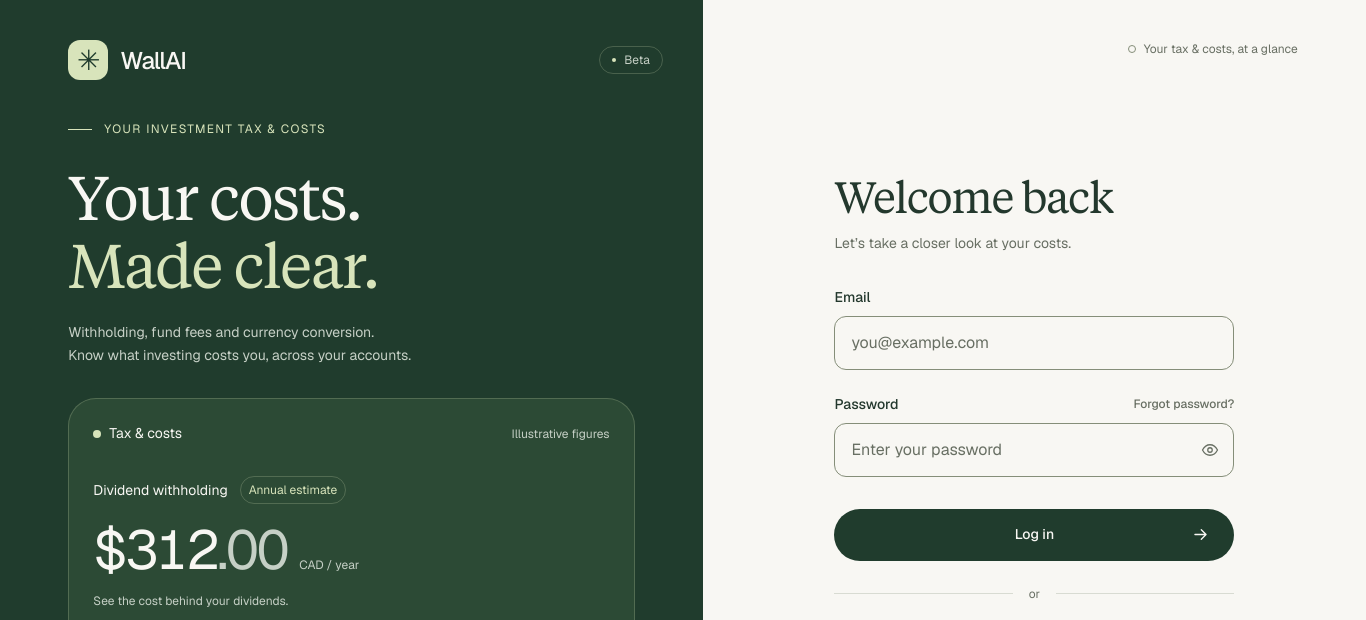
Test: Login page › log-in state › shows a neutral sentence rather than a raw Firebase code when sign-in fails
The width and height of the screenshot is (1366, 620).
Type "a@b.com" into the field labelled "Email".
click(1034, 343); type("a@b.com")  # box [834,316,1234,370]
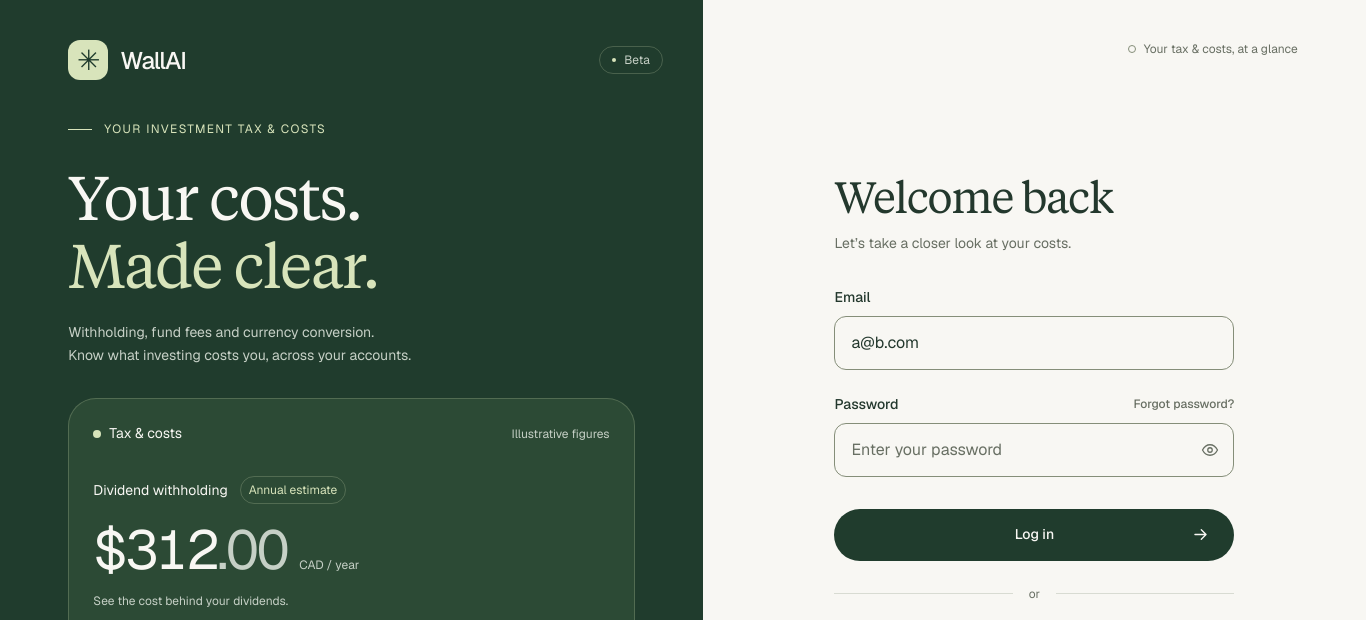
Type "wrong" into the password field labelled "Password".
click(1034, 450); type("wrong")  # box [834,423,1234,477]
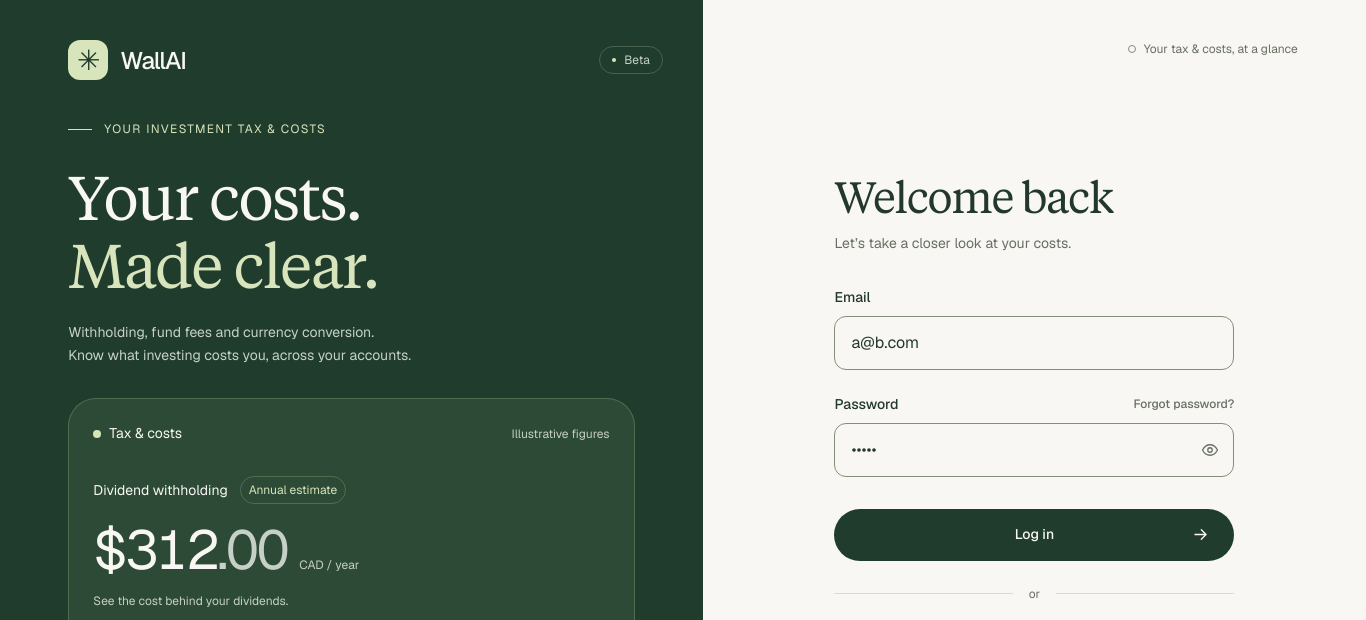
Click the button "Log in".
click(1034, 535)  # box [834,509,1234,561]
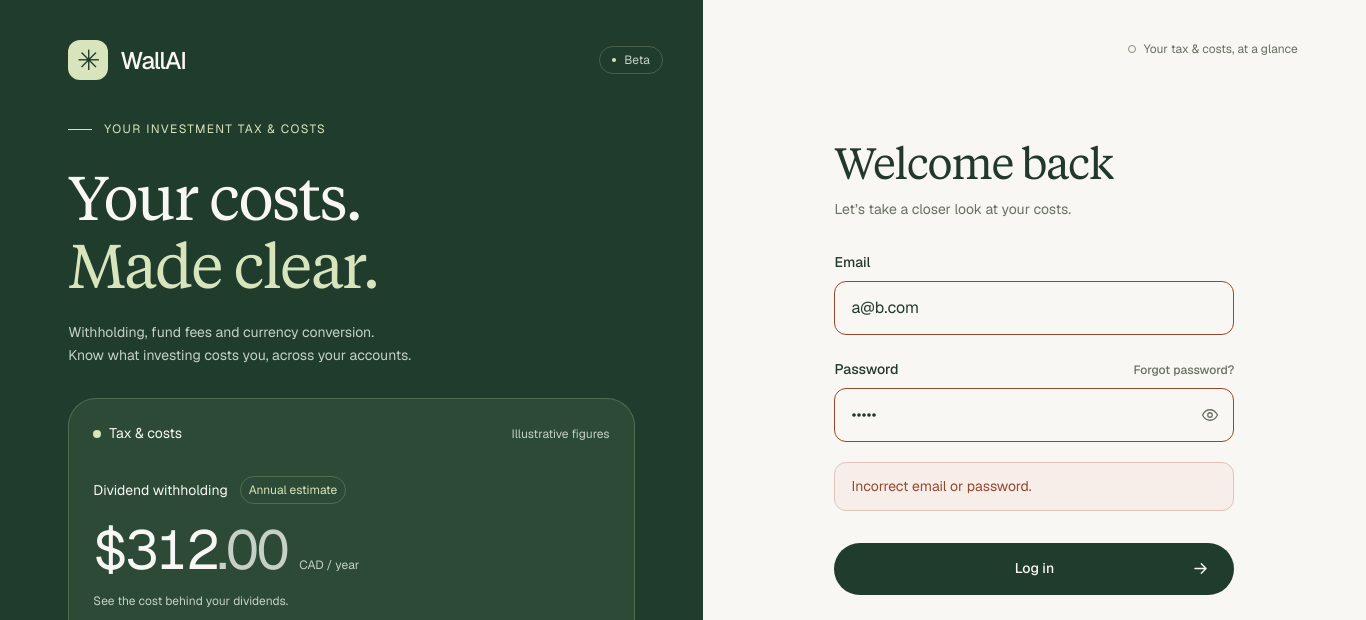
Expected: the message does not show "auth/", [834,462,1234,511]
Expected: the message reads "Incorrect email or password.", [851,478,1032,496]
